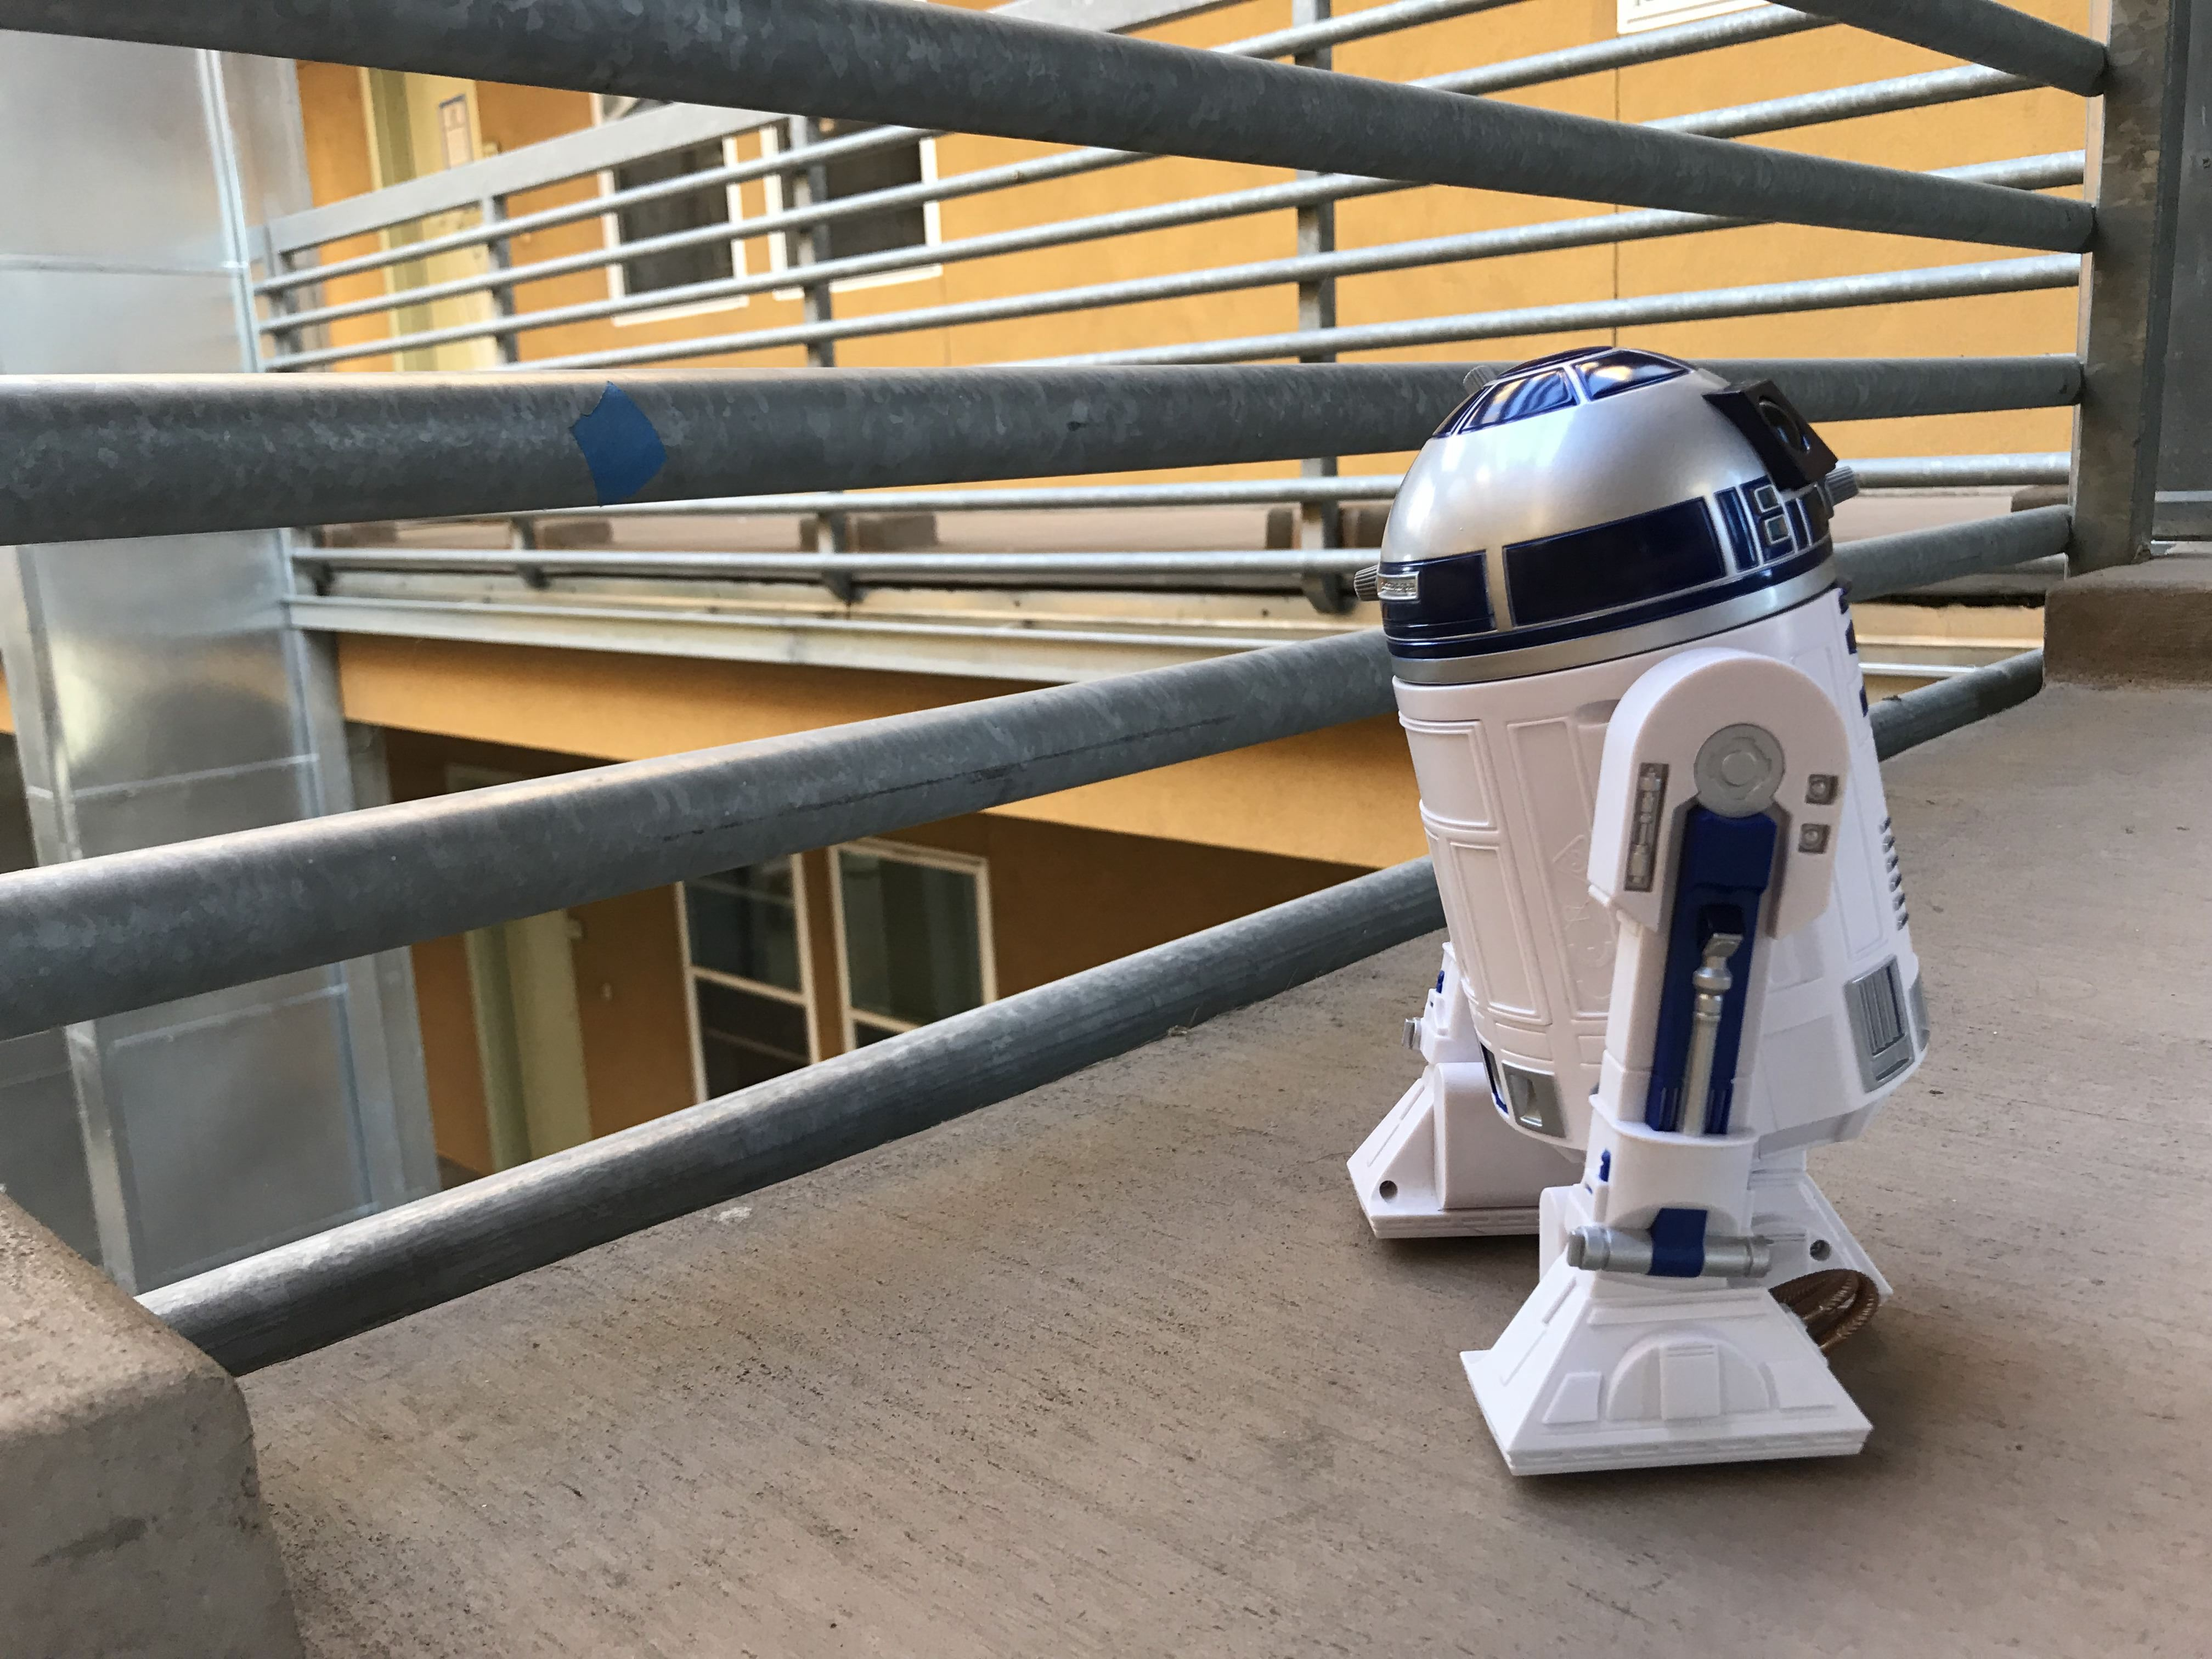r2d2: (1346, 350, 1932, 1474)
